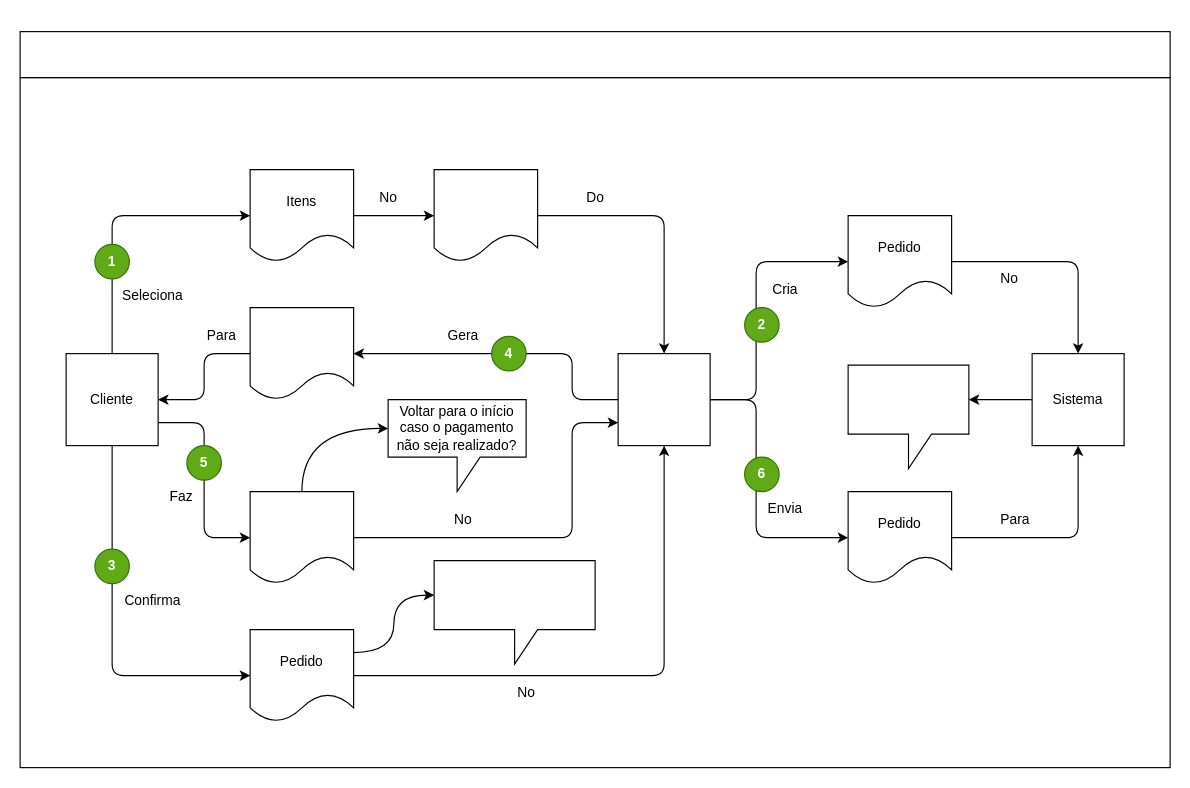
Some shapes in this 1190 by 788 pixel diagram are drawn without their labels. The centre of each missing label's shape, as x and y in pixels:
"Menu" goes at (485,215).
"Nesse momento o pedido entrará na fila da Cozinha" goes at (908,416).
"Order Flow" goes at (594,54).
"Pagamento" goes at (301,537).
"QR Code" goes at (301,353).
"Se o cliente não confirmar devemos voltar para o menu de items?" goes at (514,611).
"Totem" goes at (663,399).
